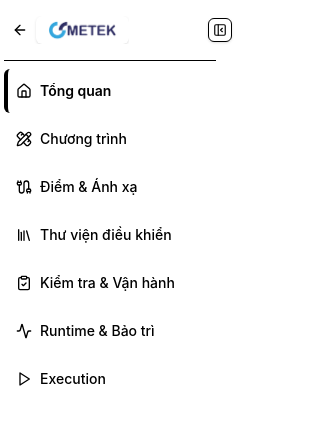
Test case: ProgrammingFeatureRail — T60-101 (D-01 focus mode) › cơ chế thu gọn trên desktop: bấm toggle chuyển sang icon-only (lg:w-16), lưu localStorage và vẫn tương tác được
This screenshot has width=320, height=426.
Expected: the text "Chương trình" is shown, x1=40 y1=129 x2=127 y2=149
// Bấm nút thu gọn (chuyển sang logo 2)
Click the button with test id "programming-rail-toggle".
click(220, 30)  # box x1=208 y1=18 x2=232 y2=42
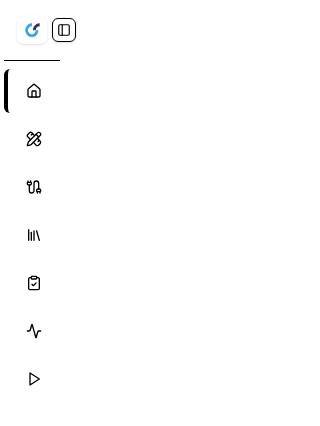
Expected: the text "Chương trình" is gone
// Bấm mở lại
Click the button with test id "programming-rail-toggle".
click(64, 30)  # box x1=52 y1=18 x2=76 y2=42
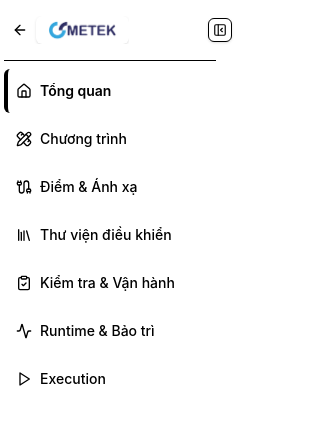
Expected: the text "Chương trình" is shown, x1=40 y1=129 x2=127 y2=149
